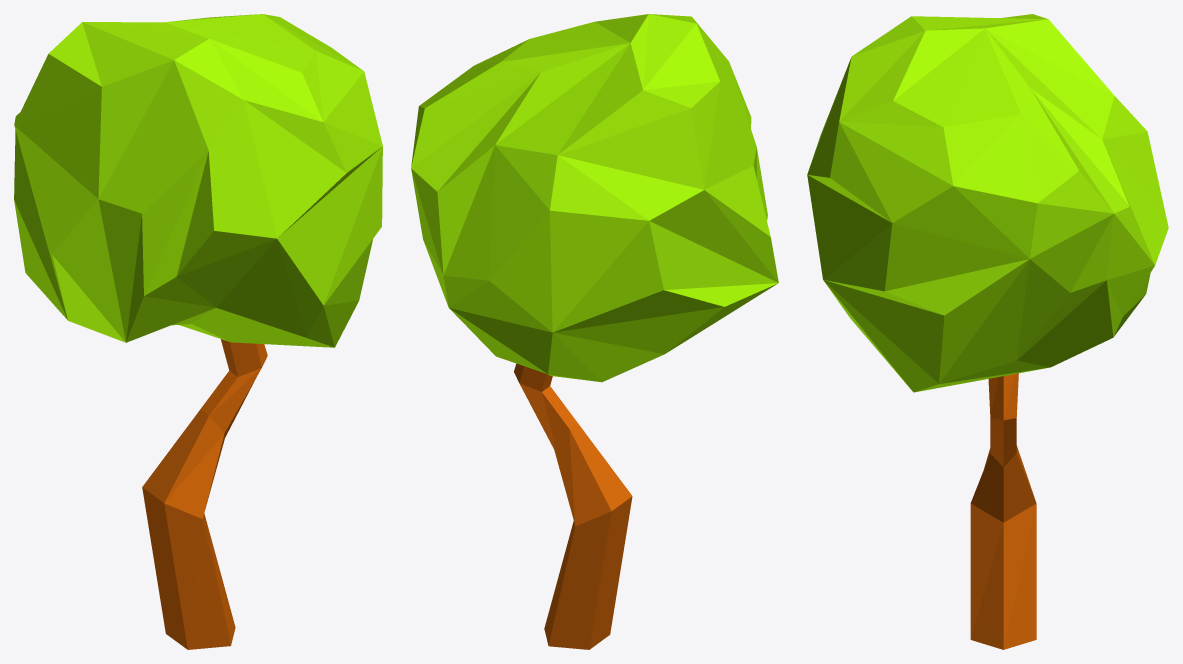
The model's file is tree1geometry.glb.
The picture shows the model from 3 angles, left to right: view 1: azimuth 30°, elevation 25°; view 2: azimuth 150°, elevation 25°; view 3: azimuth 270°, elevation 25°; orthographic projection. The views are drawn at different scales.
Size of the model in its own units: 0.542 by 1 by 0.5568.
